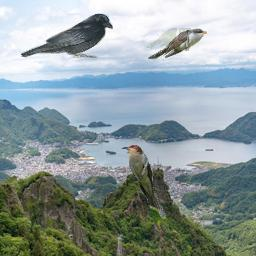Crow: (20, 13, 113, 58)
Cuckoo: (121, 144, 167, 231), (147, 28, 207, 59)
